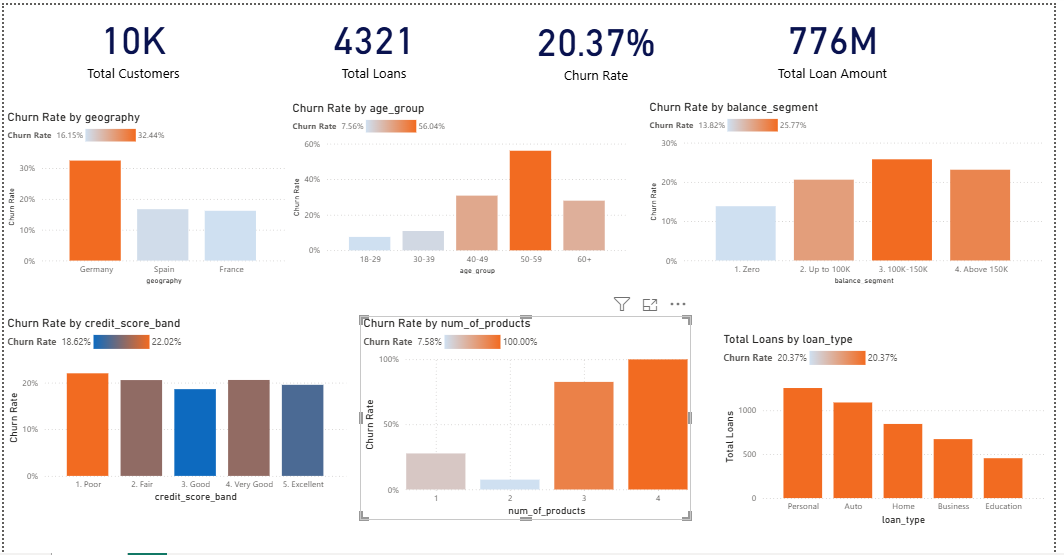

Layout of this report page (visuals, bound fields, positions):
{"tool":"powerbi","page":{"name":"Page 1","canvas":[1500,800],"ordinal":0},"visuals":[{"type":"card","fields":{"Values":["customers.Total Customers"]},"box":[0,0,348.4,138.7],"z":0},{"type":"card","fields":{"Values":["customers.Total Loans"]},"box":[379.6,0,295.3,138.2],"z":1000},{"type":"card","fields":{"Values":["customers.Churn Rate"]},"box":[721.5,1.5,317.1,151.3],"z":2000},{"type":"card","fields":{"Values":["customers.Total Loan Amount"]},"box":[1072,1.5,379.6,151.3],"z":3000},{"type":"clusteredColumnChart","fields":{"Category":["customers.geography"],"Y":["customers.Churn Rate"]},"box":[0,150,407.6,254.1],"z":4000},{"type":"clusteredColumnChart","fields":{"Y":["customers.Churn Rate"],"Category":["customers.age_group"]},"box":[407.6,137.6,488.8,252.4],"z":5000},{"type":"columnChart","fields":{"Category":["customers.credit_score_band"],"Y":["customers.Churn Rate"]},"box":[0,444.7,494.1,271.8],"z":6000},{"type":"clusteredColumnChart","fields":{"Category":["customers.balance_segment"],"Y":["customers.Churn Rate"]},"box":[917.6,135.9,573.5,268.2],"z":7000},{"type":"columnChart","fields":{"Category":["customers.num_of_products"],"Y":["customers.Churn Rate"]},"box":[508.2,444.7,472.9,291.2],"z":8000},{"type":"clusteredColumnChart","fields":{"Y":["customers.Total Loans"],"Category":["loans.loan_type"]},"box":[1023.5,467.6,467.6,280.6],"z":9000}]}

Visuals, with their boxes in screenshot pixels (x1, y1, x2, y2), scaled from the page's 1500x800 canvas onto the 1064x555 screenshot:
card - customers.Total Customers: [0,0,247,96]
card - customers.Total Loans: [269,0,479,96]
card - customers.Churn Rate: [512,1,737,106]
card - customers.Total Loan Amount: [760,1,1030,106]
clusteredColumnChart - customers.geography x customers.Churn Rate: [0,104,289,280]
clusteredColumnChart - customers.Churn Rate x customers.age_group: [289,95,636,271]
columnChart - customers.credit_score_band x customers.Churn Rate: [0,309,350,497]
clusteredColumnChart - customers.balance_segment x customers.Churn Rate: [651,94,1058,280]
columnChart - customers.num_of_products x customers.Churn Rate: [360,309,696,511]
clusteredColumnChart - customers.Total Loans x loans.loan_type: [726,324,1058,519]
